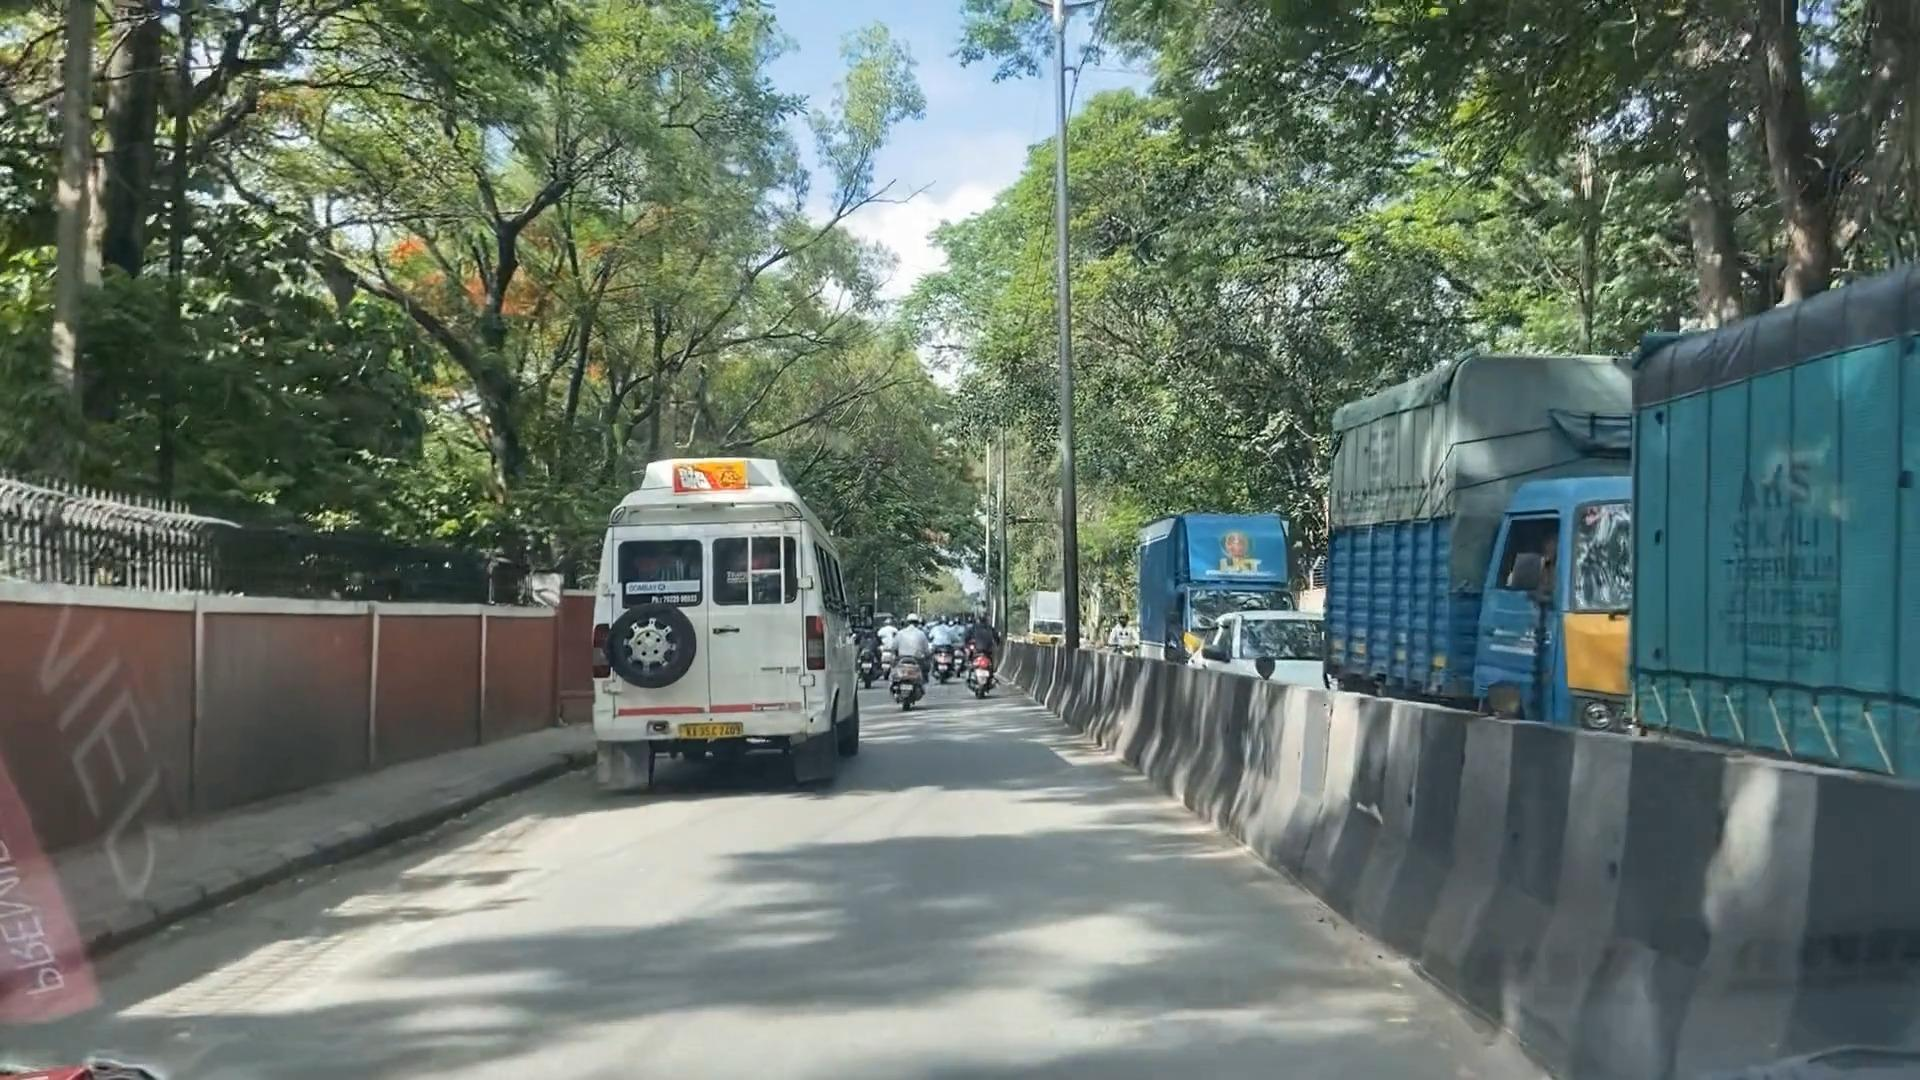HMV: (1598, 253, 1920, 761), (1308, 344, 1634, 723), (584, 431, 872, 832)
